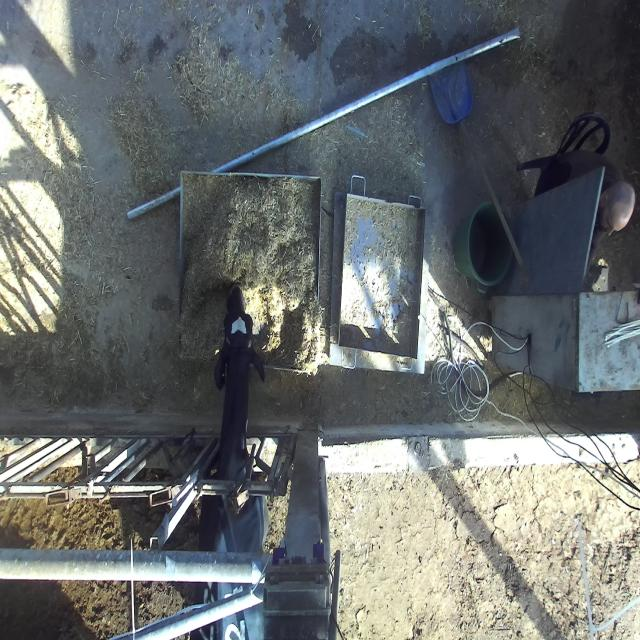cow: (213, 287, 266, 386)
